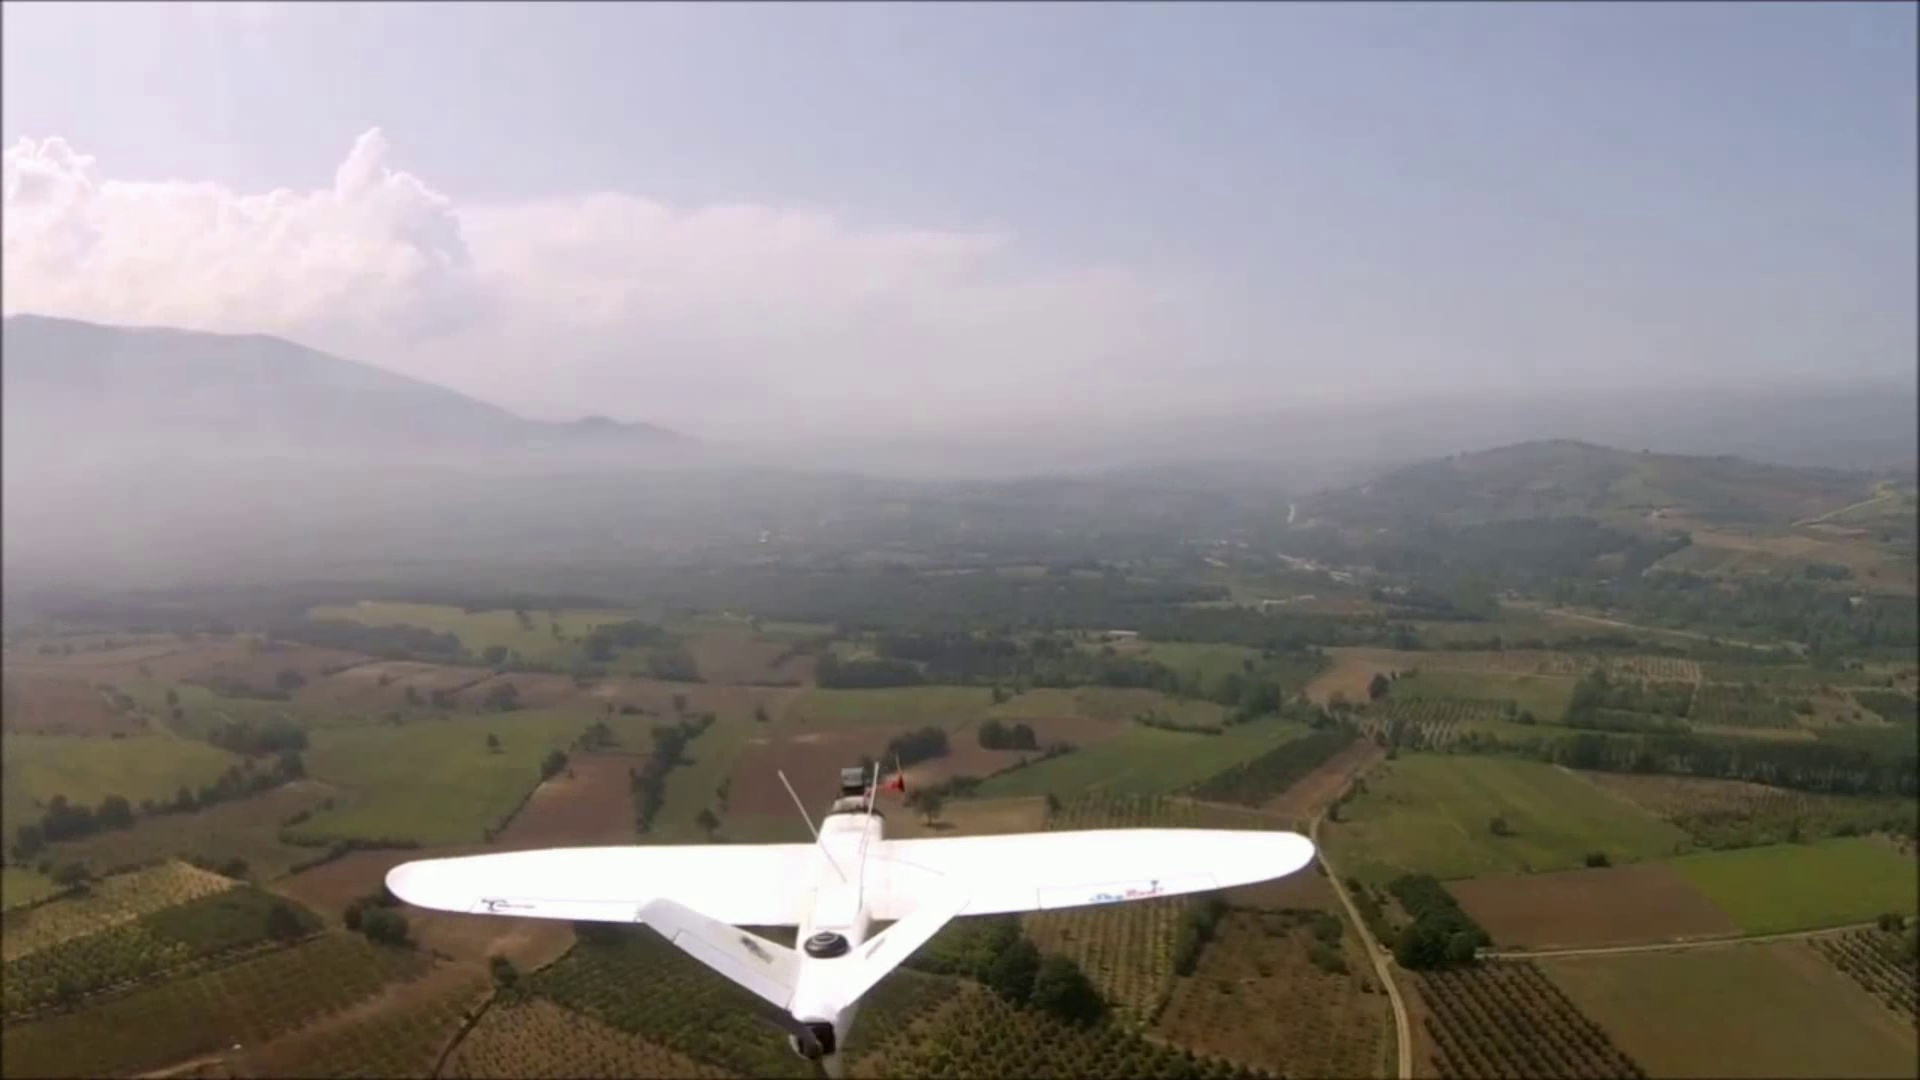airplane: (377, 799, 1321, 1058)
